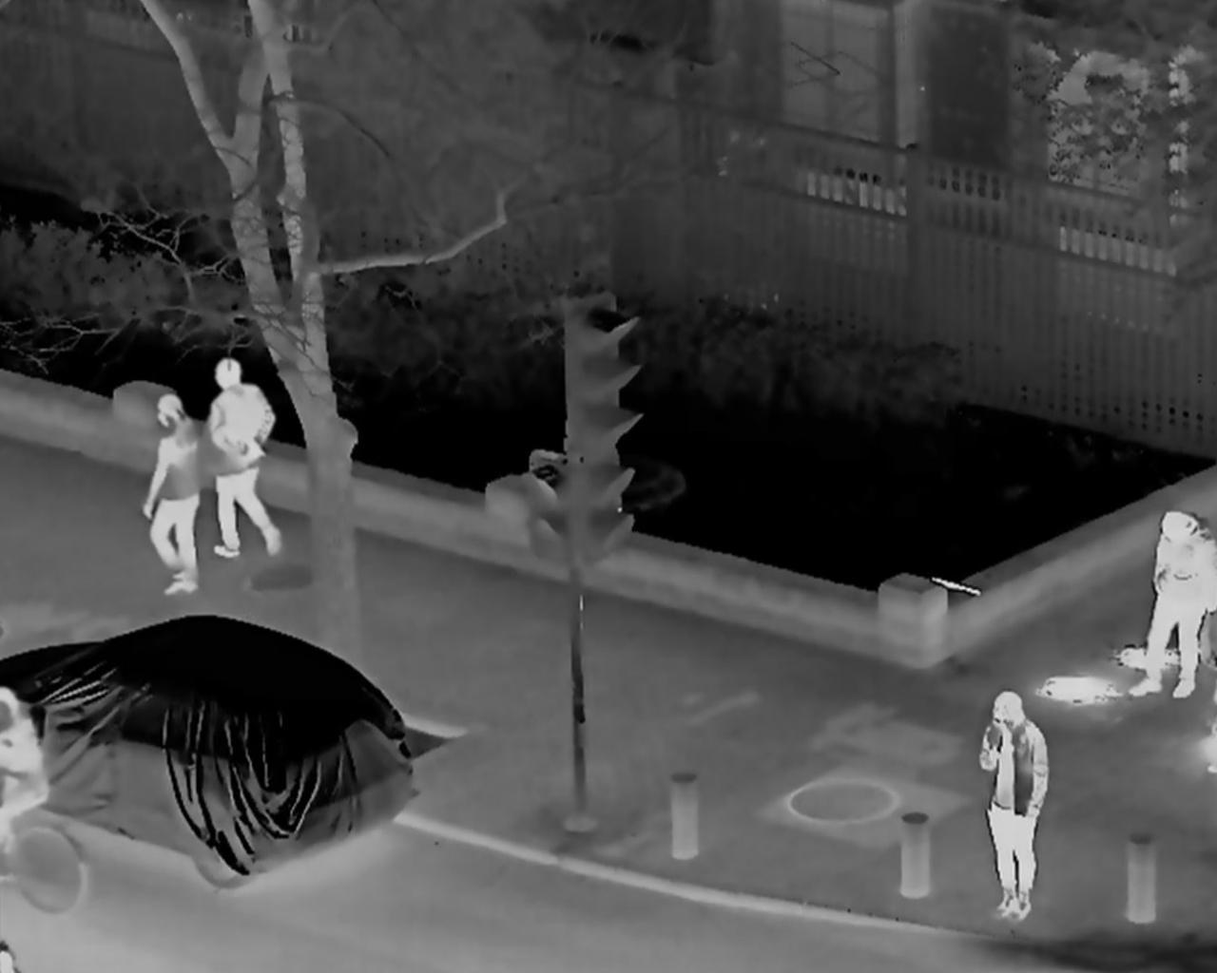person: (967, 689, 1041, 919), (203, 361, 277, 559), (1139, 511, 1217, 692), (139, 395, 207, 592)
